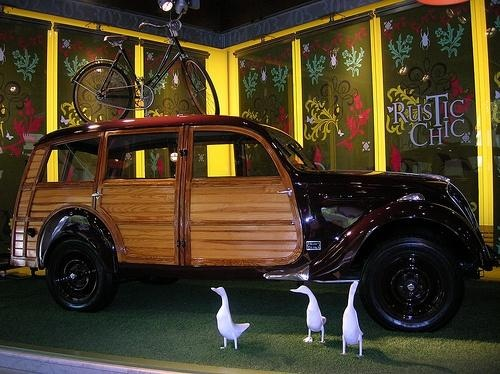bicycle: (71, 8, 220, 124)
car: (11, 118, 496, 336)
